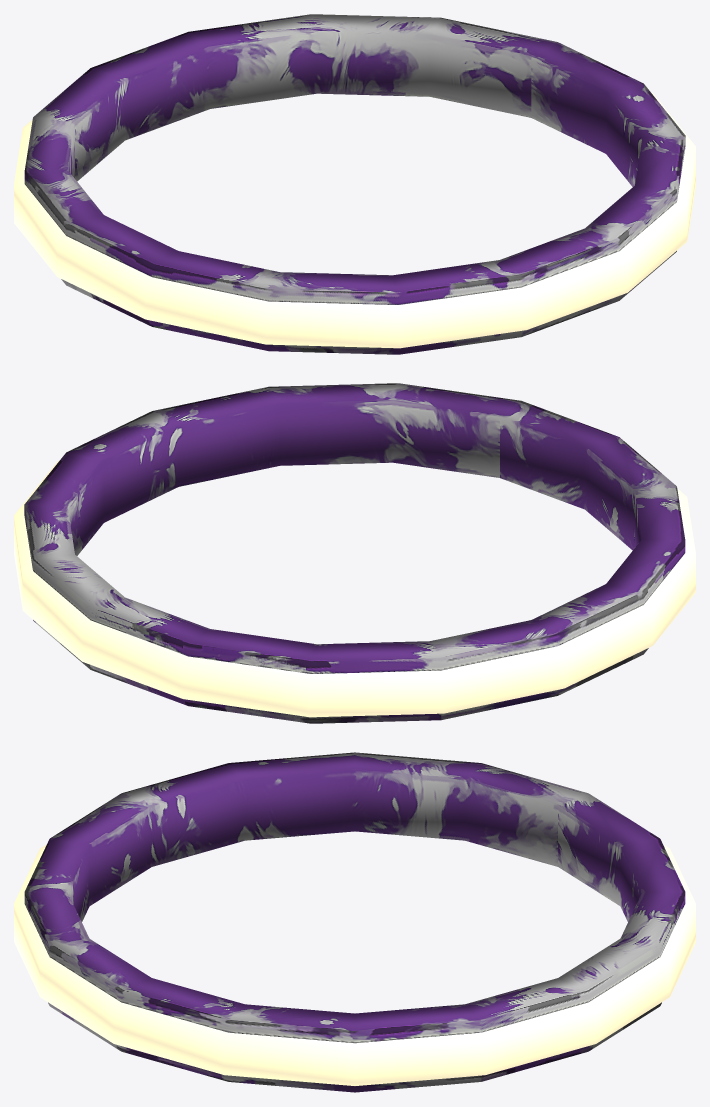
File: drinkHolder.fbx
3 renders of one model, top to bottom at view 1: azimuth 30°, elevation 25°; view 2: azimuth 150°, elevation 25°; view 3: azimuth 270°, elevation 25°, orthographic.
Visible parts, largest first — view 1: Circle.005; view 2: Circle.005; view 3: Circle.005.
Part boxes in pixels (<box>): Circle.005: <box>14,14,695,354</box>; Circle.005: <box>14,383,695,723</box>; Circle.005: <box>14,752,695,1092</box>.
Bounding box in the file's own units: 67.82 × 6.67 × 67.82.
